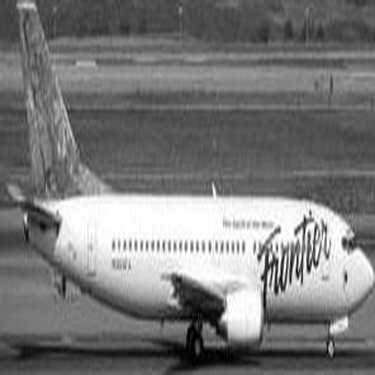airplane: (2, 5, 371, 369)
